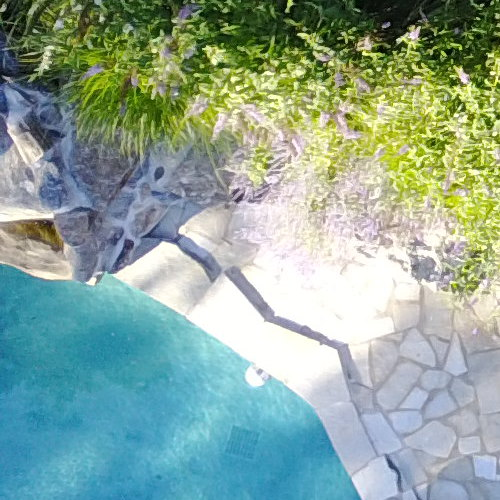no larvae: (1, 206, 86, 260)
stone feature: (1, 208, 86, 262)
